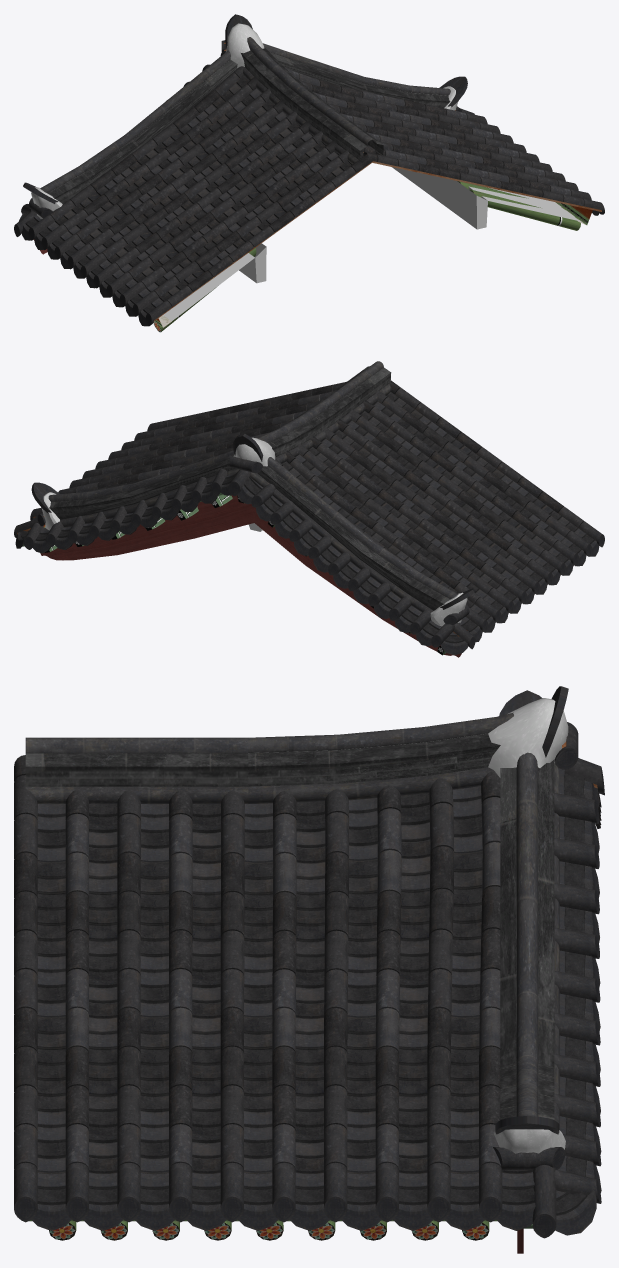
File: SM_Giwa08E.fbx
3 views of the same model, one above another, from view 1: azimuth 30°, elevation 25°; view 2: azimuth 150°, elevation 25°; view 3: azimuth 270°, elevation 25° (orthographic). The views are drawn at different scales.
Visible parts, largest first — view 1: SM_Giwa08E; view 2: SM_Giwa08E; view 3: SM_Giwa08E.
Boxes of the visible parts, x1=… form: SM_Giwa08E: x1=14, y1=14, x2=604, y2=332; SM_Giwa08E: x1=14, y1=361, x2=604, y2=657; SM_Giwa08E: x1=14, y1=686, x2=604, y2=1253.
Bounding box in the file's own units: 622 × 351 × 238.
